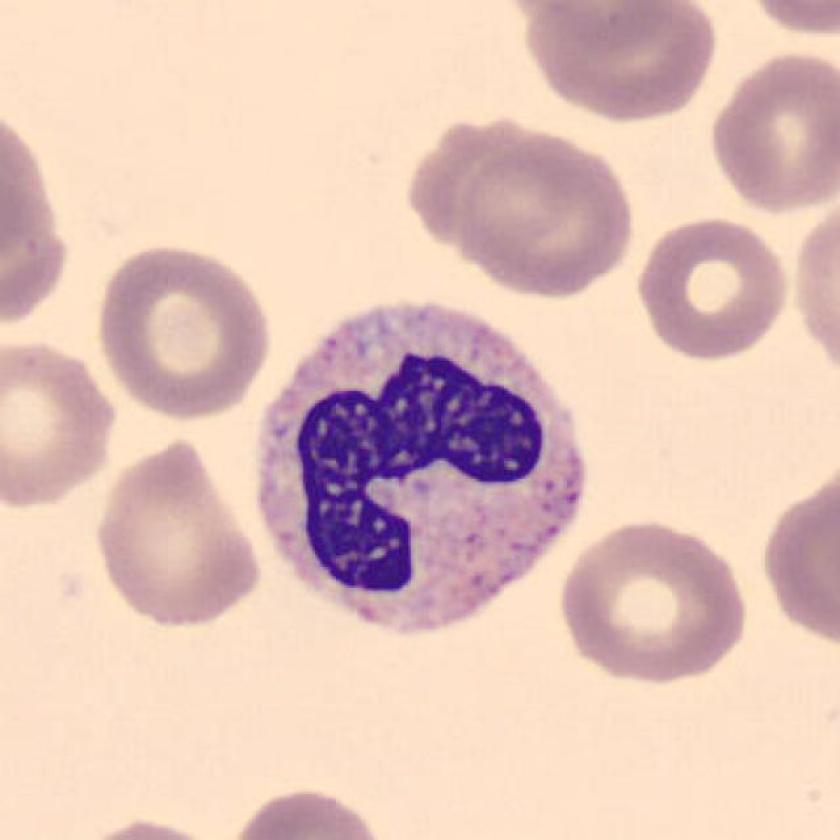neutrophil: (263, 306, 587, 633)
